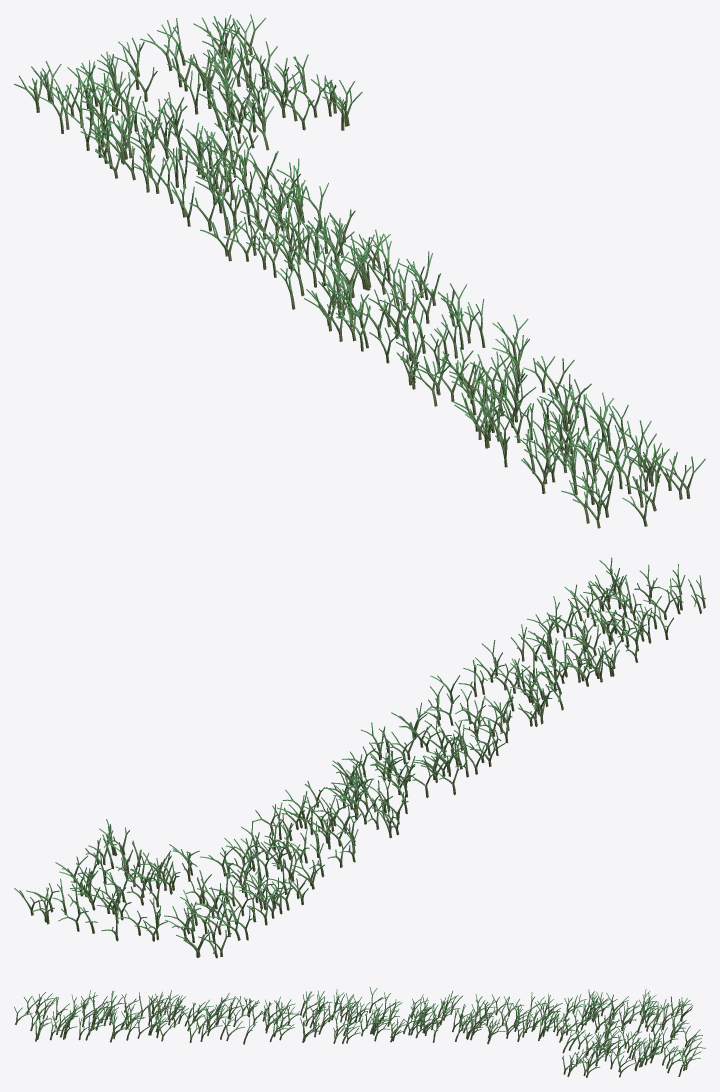
File: gardenmain.obj
The picture shows the model from 3 angles, top to bottom: view 1: azimuth 30°, elevation 25°; view 2: azimuth 150°, elevation 25°; view 3: azimuth 270°, elevation 25°; orthographic projection. The views are drawn at different scales.
Parts seen in each view (by area): view 1: group62 group63 garden2:groundCover3Main, group62 group63 garden2:groundCover1Main, garden2:groundCover2Main group62 group63, group62 group63 garden2:groundCover4Main; view 2: group62 group63 garden2:groundCover3Main, group62 group63 garden2:groundCover1Main, garden2:groundCover2Main group62 group63, group62 group63 garden2:groundCover4Main; view 3: group62 group63 garden2:groundCover3Main, group62 group63 garden2:groundCover1Main, garden2:groundCover2Main group62 group63, group62 group63 garden2:groundCover4Main.
Boxes of the visible parts, x1,y1,x2,y2 form: group62 group63 garden2:groundCover3Main: (14, 44, 705, 528); group62 group63 garden2:groundCover1Main: (28, 51, 691, 526); garden2:groundCover2Main group62 group63: (118, 16, 354, 148); group62 group63 garden2:groundCover4Main: (140, 14, 362, 150); group62 group63 garden2:groundCover3Main: (118, 557, 705, 958); group62 group63 garden2:groundCover1Main: (134, 564, 701, 957); garden2:groundCover2Main group62 group63: (26, 819, 197, 941); group62 group63 garden2:groundCover4Main: (14, 826, 199, 933); group62 group63 garden2:groundCover3Main: (24, 989, 691, 1043); group62 group63 garden2:groundCover1Main: (14, 987, 693, 1044); garden2:groundCover2Main group62 group63: (567, 1026, 705, 1076); group62 group63 garden2:groundCover4Main: (562, 1024, 701, 1077).
Size of the model in its own units: 88.41 by 14.47 by 354.
